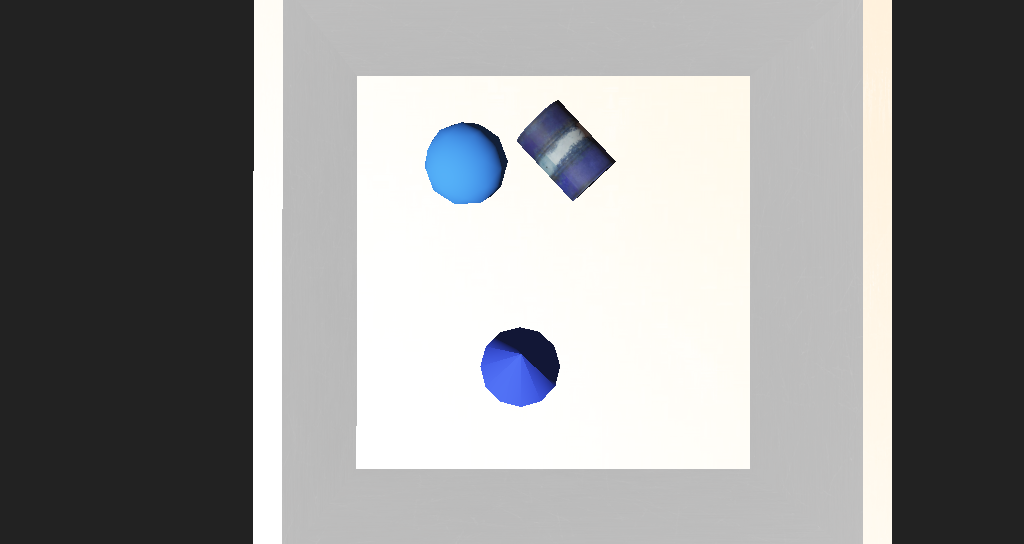cone: (482, 172, 556, 229)
cylinder: (448, 286, 509, 344)
sphere: (404, 186, 472, 234)
